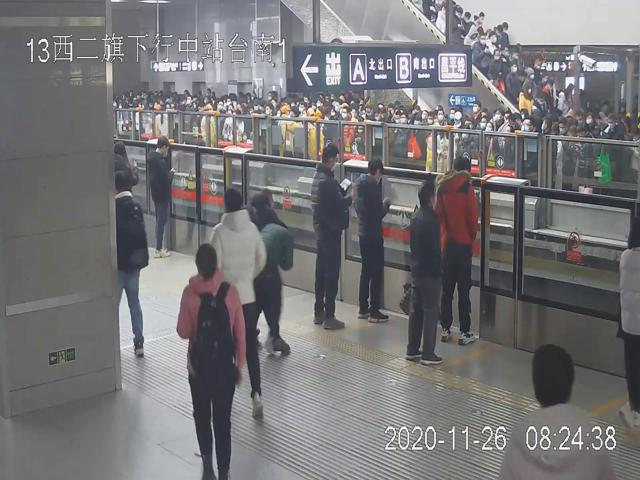person: (176, 243, 246, 480), (211, 188, 268, 420), (436, 155, 480, 347), (311, 144, 352, 331), (406, 178, 446, 367), (351, 157, 392, 322), (147, 136, 174, 259)
